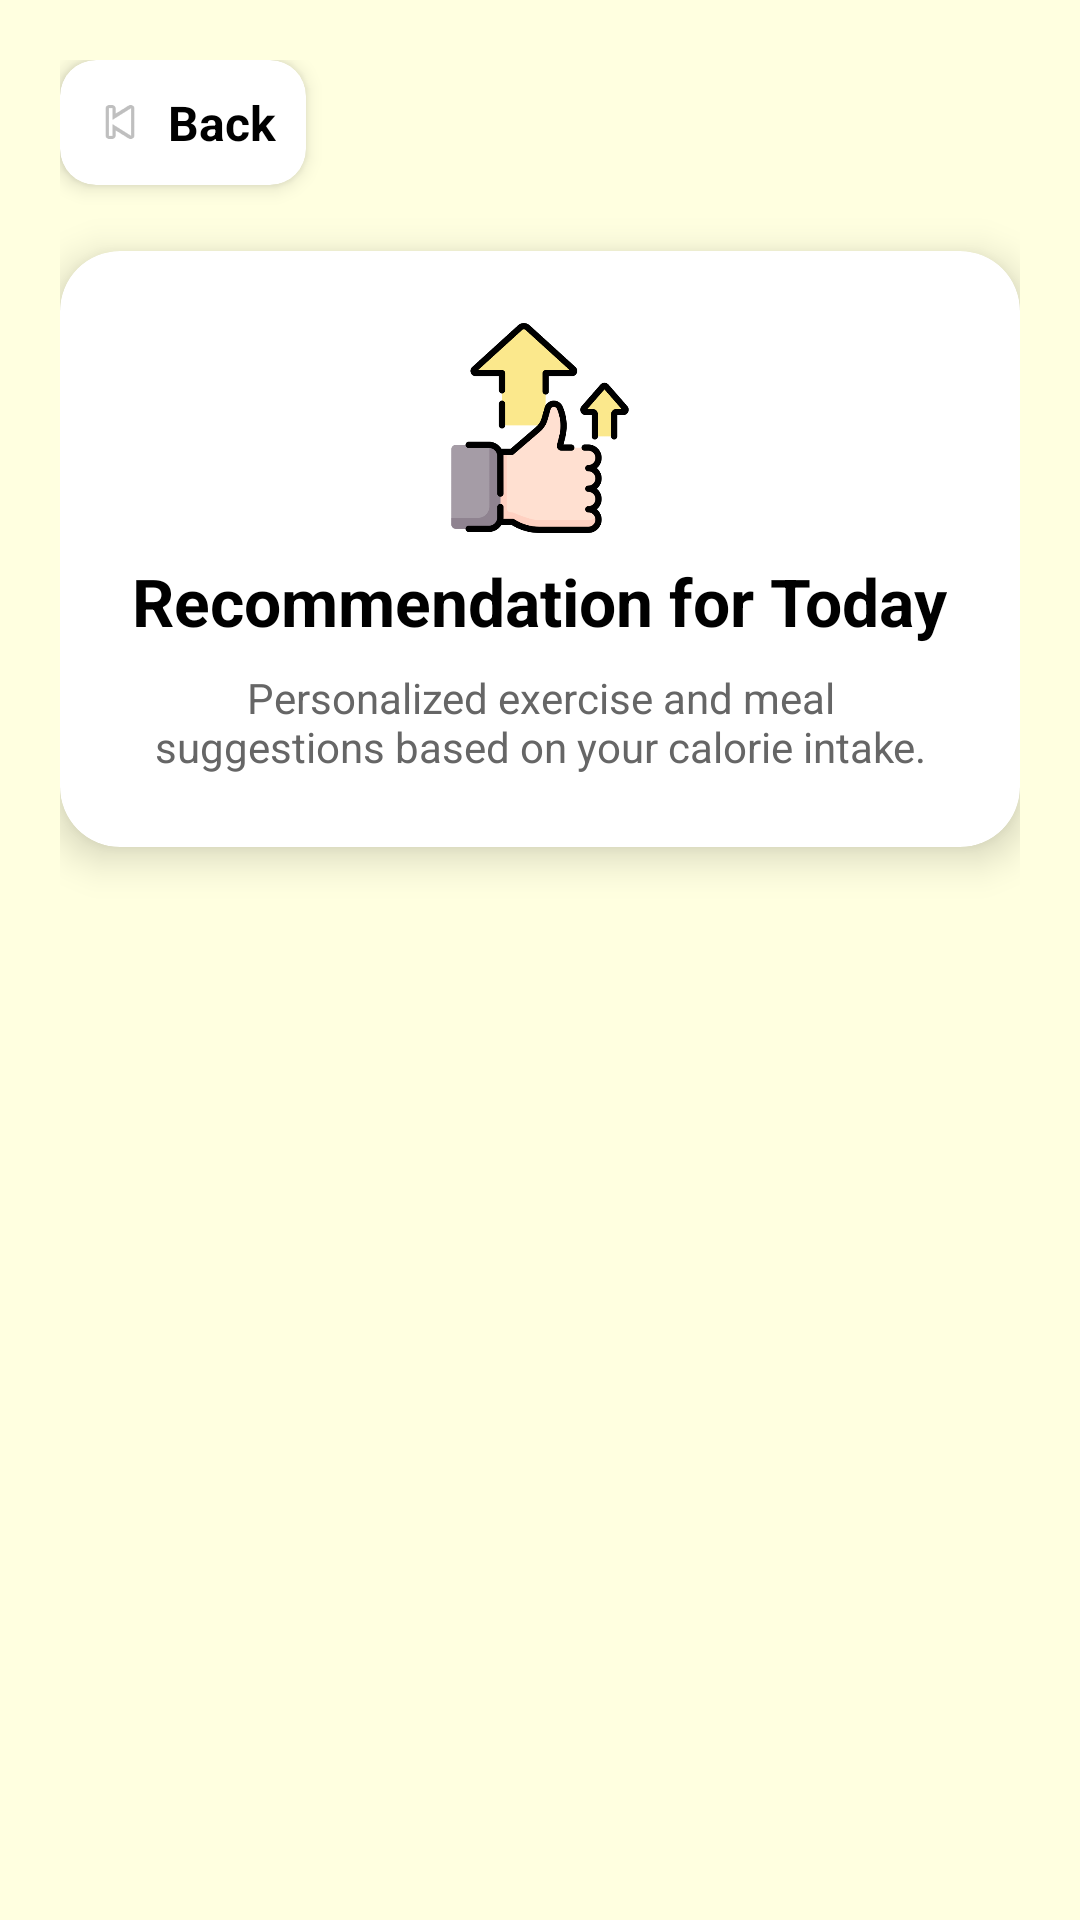

Icon bounding boxes for this 1080px x 1920px phone screenshot, format detection(x1, y1, x2, y2):
motivation: detection(451, 323, 629, 533)
